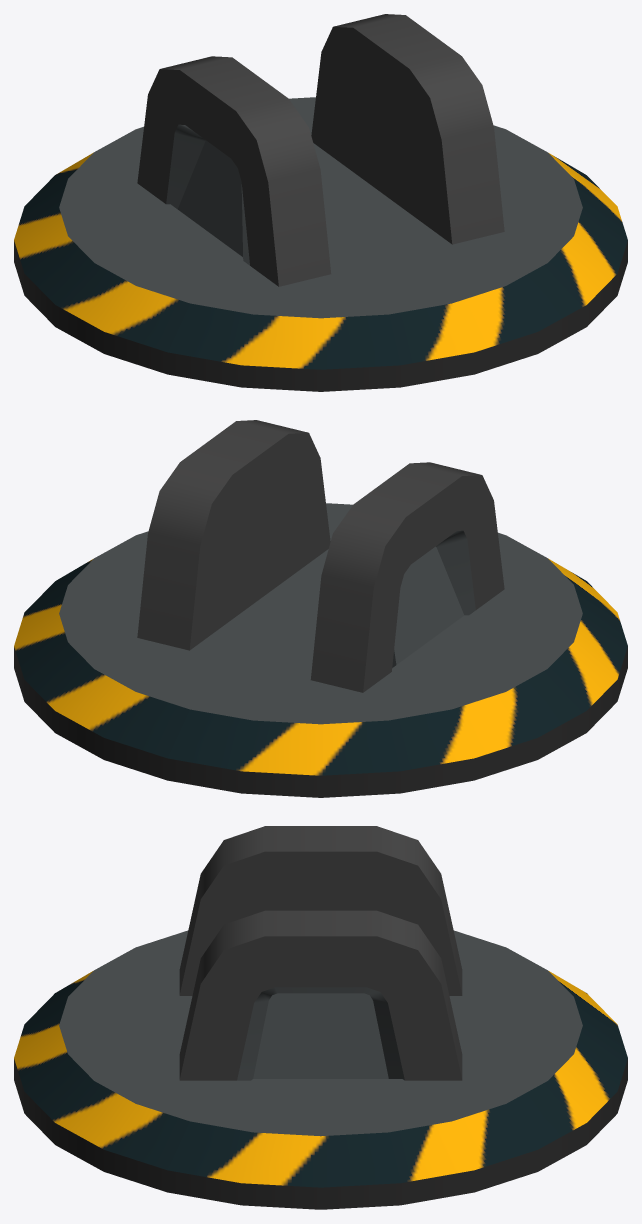
File: Turret_006_Part_01.fbx
The picture shows the model from 3 angles, top to bottom: view 1: azimuth 30°, elevation 25°; view 2: azimuth 150°, elevation 25°; view 3: azimuth 270°, elevation 25°; orthographic projection.
Parts seen in each view (by area): view 1: Turret_006_Part_01; view 2: Turret_006_Part_01; view 3: Turret_006_Part_01.
Boxes of the visible parts, x1,y1,x2,y2 form: Turret_006_Part_01: (14,14,627,391); Turret_006_Part_01: (14,420,627,797); Turret_006_Part_01: (14,826,627,1209).
Bounding box in the file's own units: 122 × 122 × 43.8.
